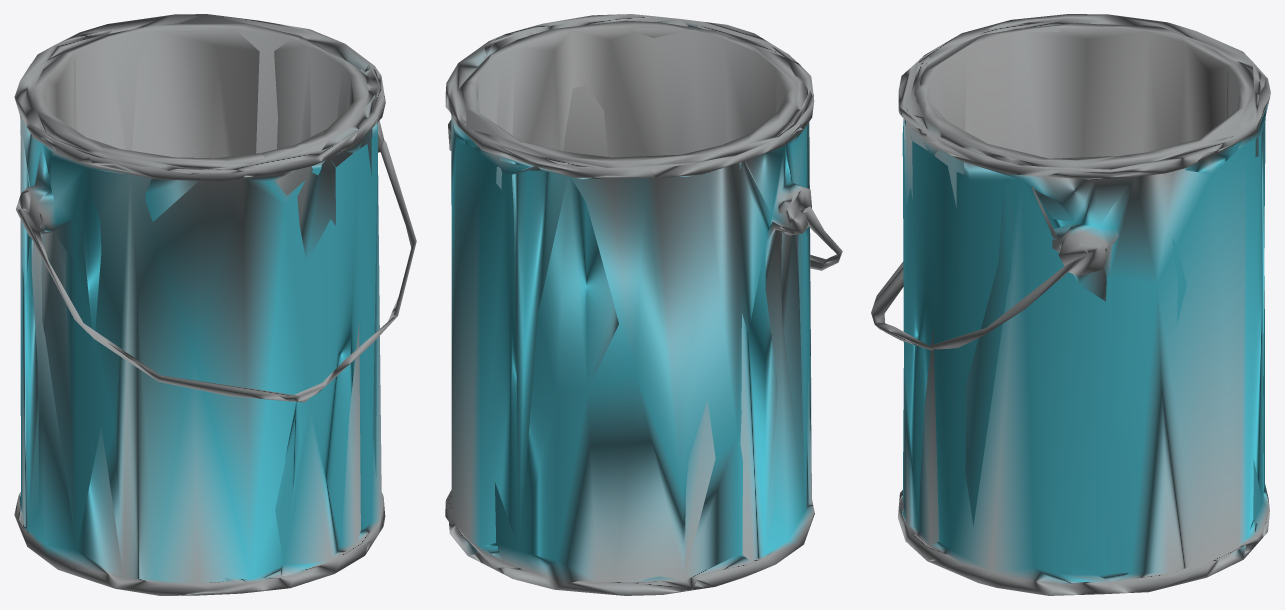
Rendered from gen3d-paint-can-lod1.glb.
The picture shows the model from 3 angles, left to right: view 1: azimuth 30°, elevation 25°; view 2: azimuth 150°, elevation 25°; view 3: azimuth 270°, elevation 25°; orthographic projection.
Parts seen in each view (by area): view 1: part_0; view 2: part_0; view 3: part_0.
Part boxes in pixels (bbox=[...]): part_0: bbox=[14, 14, 416, 595]; part_0: bbox=[445, 14, 842, 595]; part_0: bbox=[871, 14, 1270, 595].
Size of the model in its own units: 0.8729 by 1 by 0.8467.
